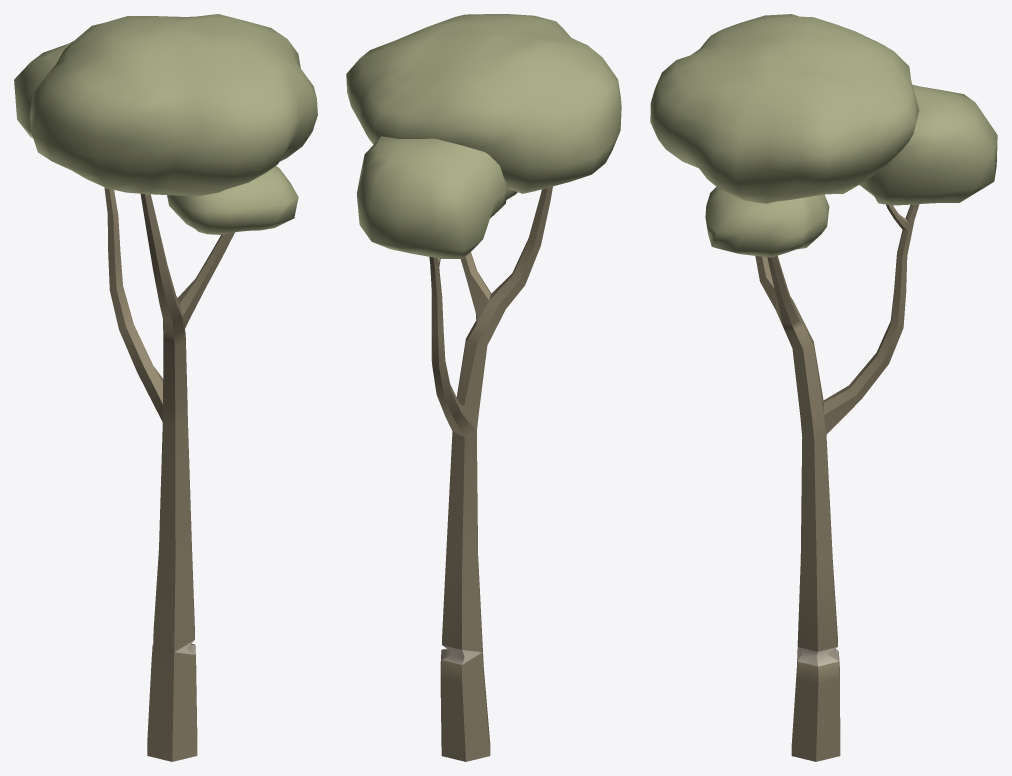
File: skinny tree cut.fbx
3 views of the same model, side by side, from view 1: azimuth 30°, elevation 25°; view 2: azimuth 150°, elevation 25°; view 3: azimuth 270°, elevation 25° (orthographic). The views are drawn at different scales.
Parts seen in each view (by area): view 1: polySurface3; view 2: polySurface3; view 3: polySurface3.
Part boxes in pixels (x1,y1,x2,y2): polySurface3: (14,14,317,761); polySurface3: (346,14,621,761); polySurface3: (650,14,997,761).
Bounding box in the file's own units: 4.2 × 11.44 × 5.1.
